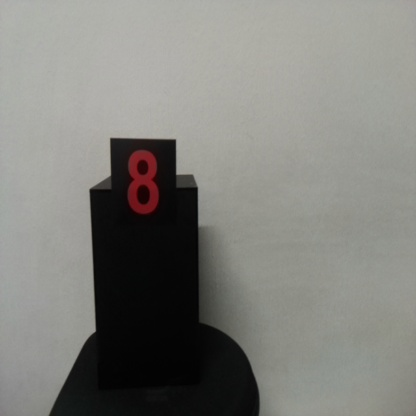id_8: (110, 140, 177, 240)
